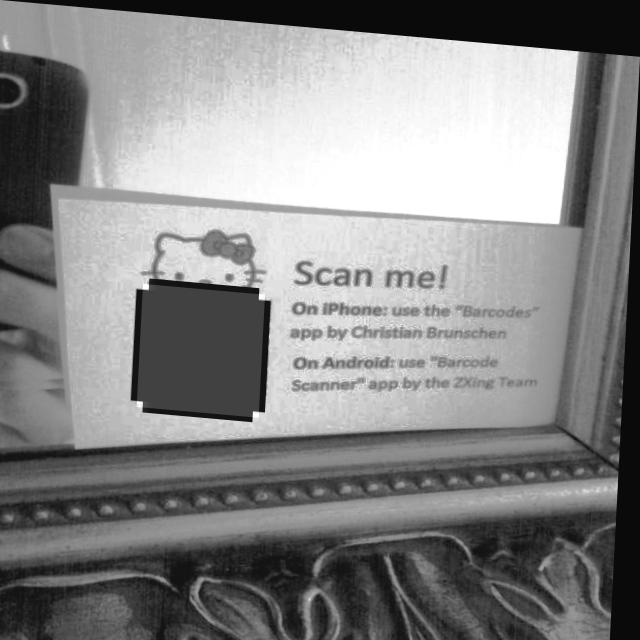qr_code: (141, 281, 268, 413)
